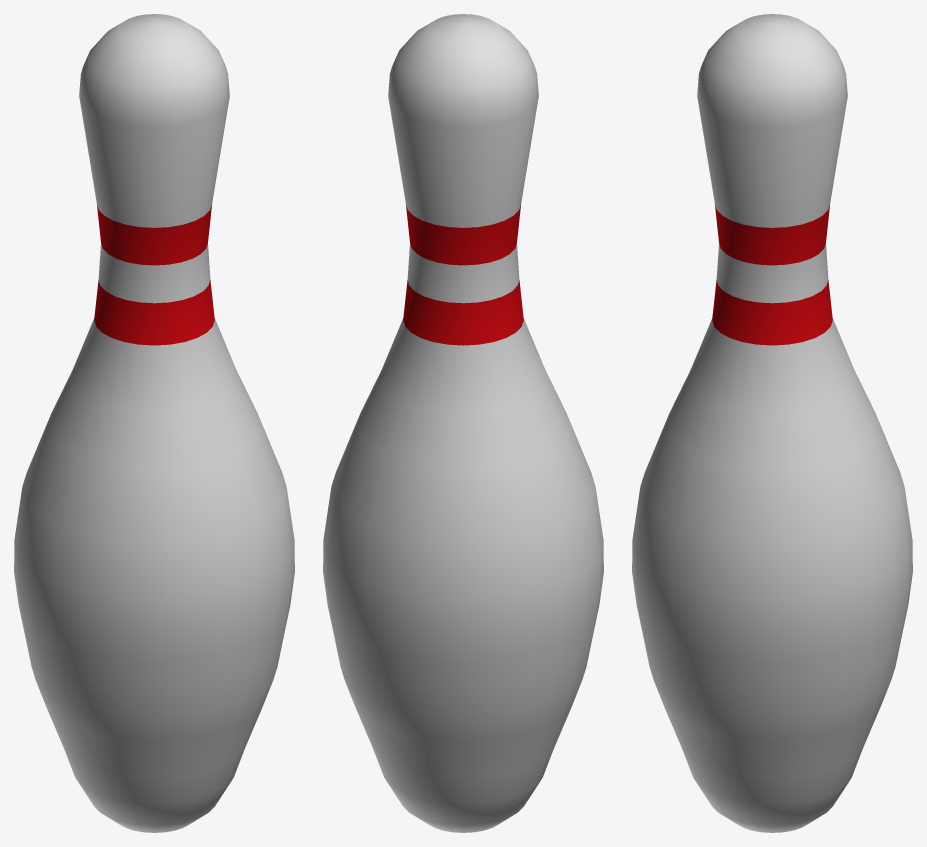
File: pin.dae
The picture shows the model from 3 angles, left to right: view 1: azimuth 30°, elevation 25°; view 2: azimuth 150°, elevation 25°; view 3: azimuth 270°, elevation 25°; orthographic projection.
Visible parts, largest first — view 1: Pin; view 2: Pin; view 3: Pin.
Boxes of the visible parts, bbox=[...] form: Pin: bbox=[14, 14, 294, 832]; Pin: bbox=[323, 14, 603, 832]; Pin: bbox=[632, 14, 912, 832].
Size of the model in its own units: 102 by 317 by 102.
